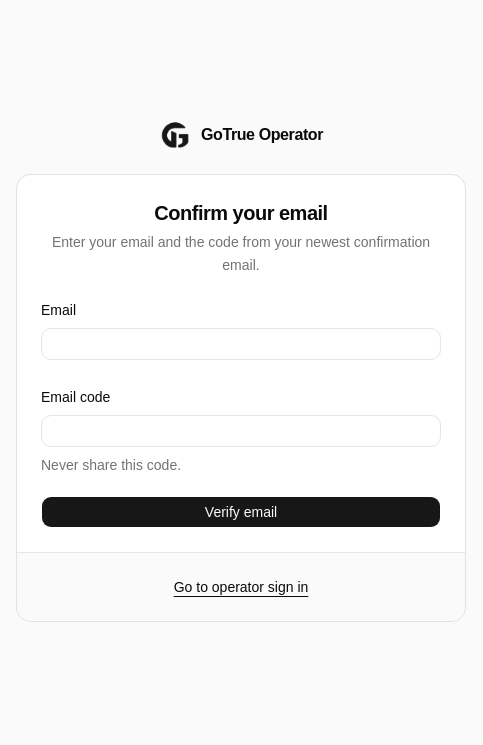
Test case: email workflows › allows deliberate re-entry after definite EMAIL_RATE_LIMITED rejection without automatic retry
The width and height of the screenshot is (483, 745).
Type "invited@example.test" into the field labelled "Email" at x=241, y=344, box left=41, top=328, right=441, bottom=360
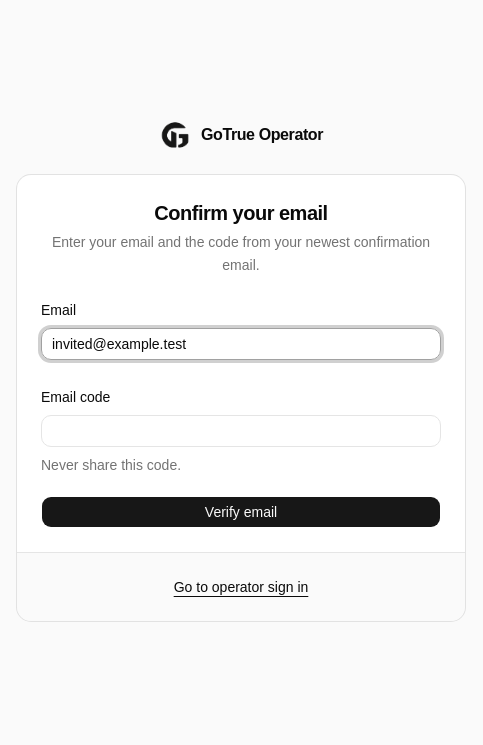
Type "123456" into the field labelled "Email code" at x=241, y=431, box left=41, top=415, right=441, bottom=447
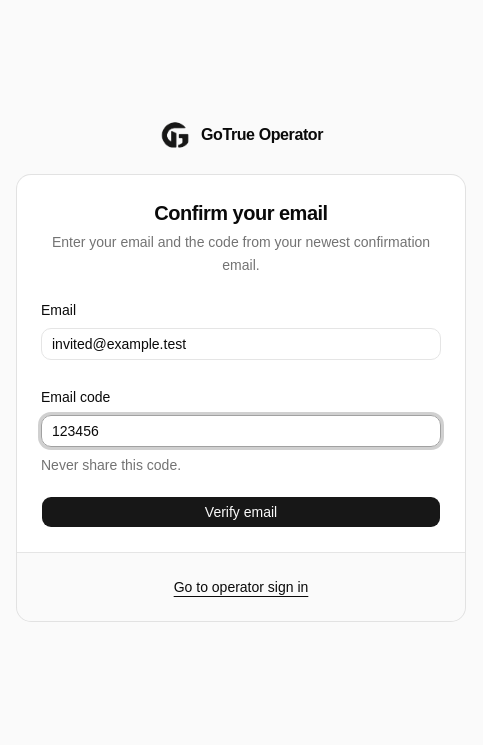
Click the button "Verify email" at x=241, y=512, box left=41, top=496, right=441, bottom=528
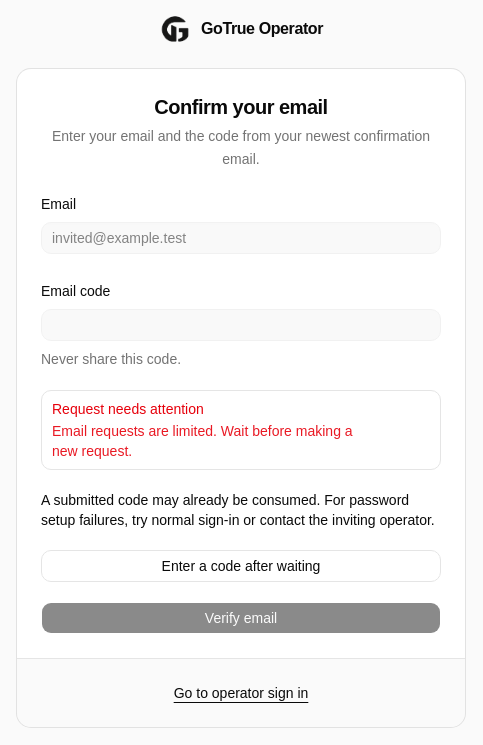
Click the button "Enter a code after waiting" at x=241, y=566, box left=41, top=550, right=441, bottom=582
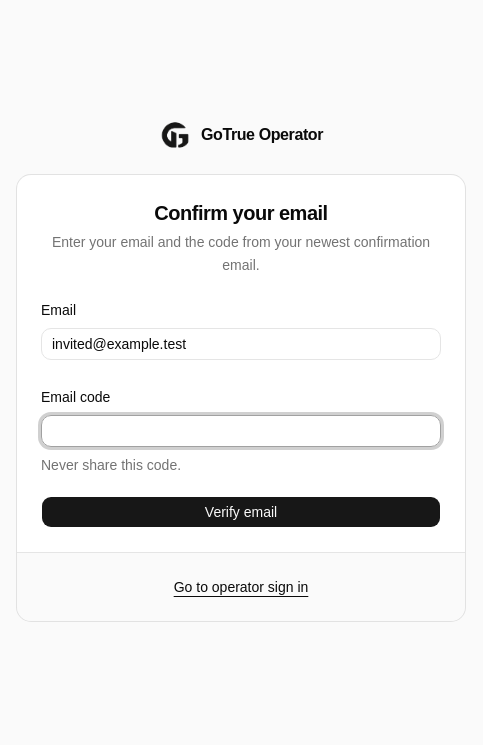
Result: the field labelled "Email code" is empty at left=41, top=415, right=441, bottom=447
Result: the field labelled "Email code" is enabled at left=41, top=415, right=441, bottom=447
